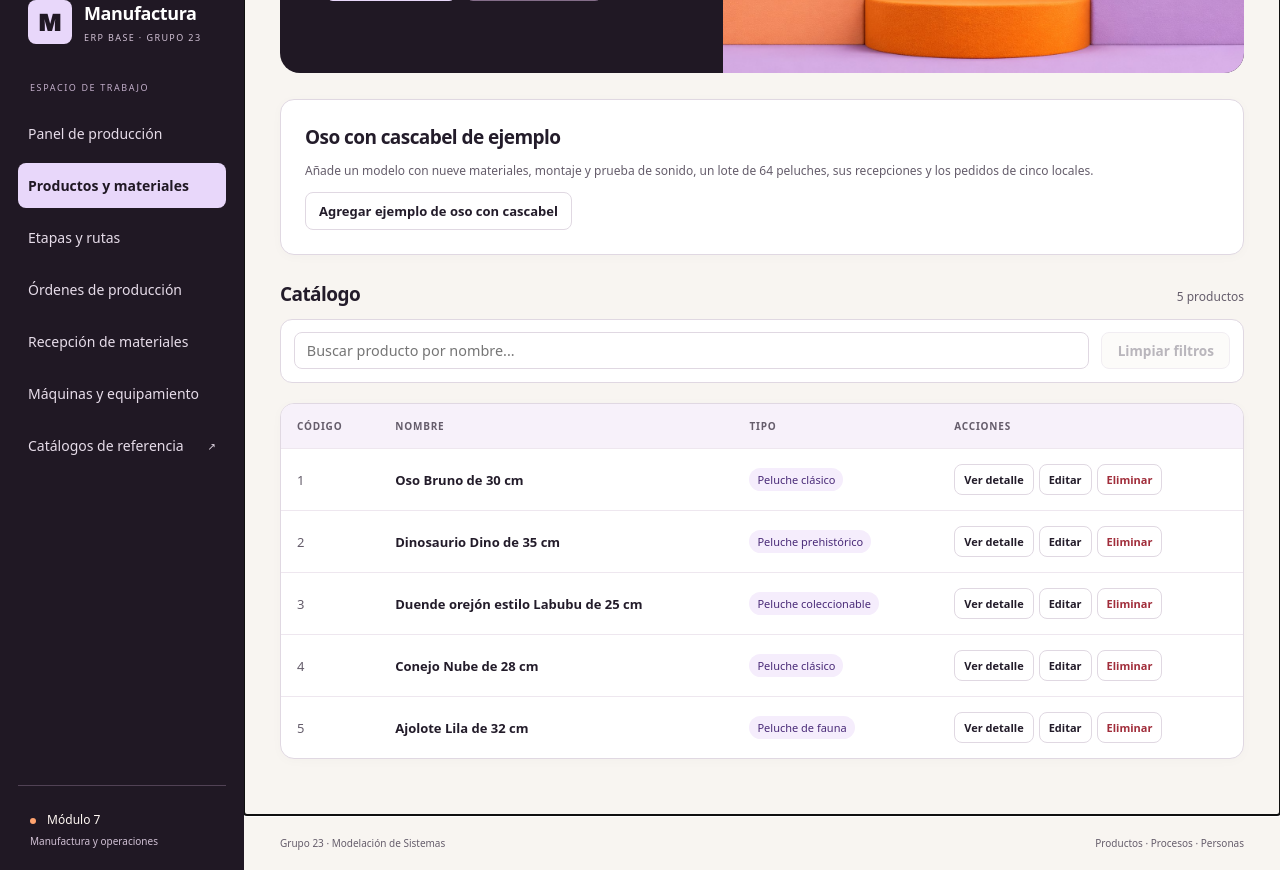
explica las dependencias de productos antes de ofrecer confirmar
(page scrolled)
Click the button "Eliminar" in the row of "Oso Bruno de 30 cm" at (1129, 480), box [1096, 464, 1162, 495]
(page scrolled)
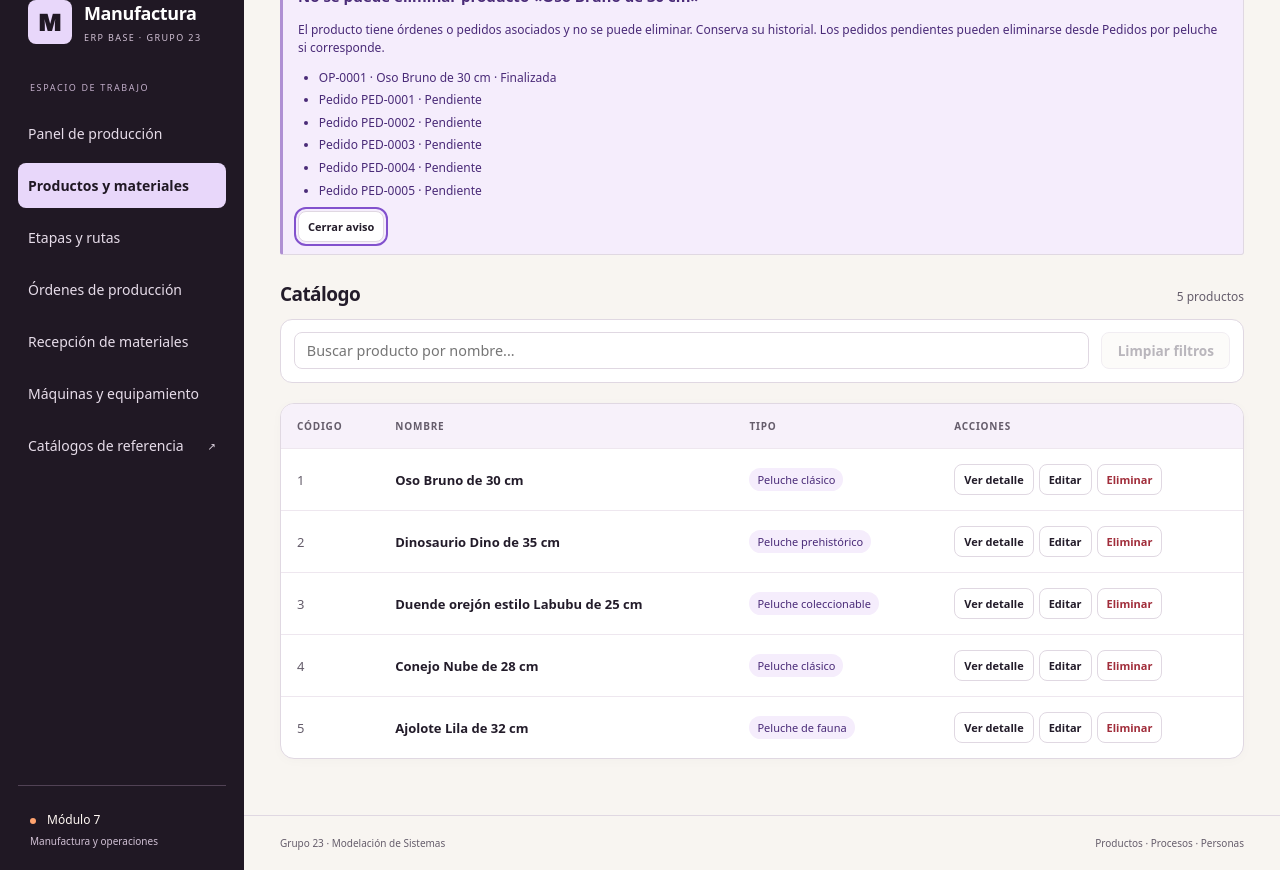
Expected: the dialog shows "órdenes o pedidos", [298, 21, 1217, 56]
